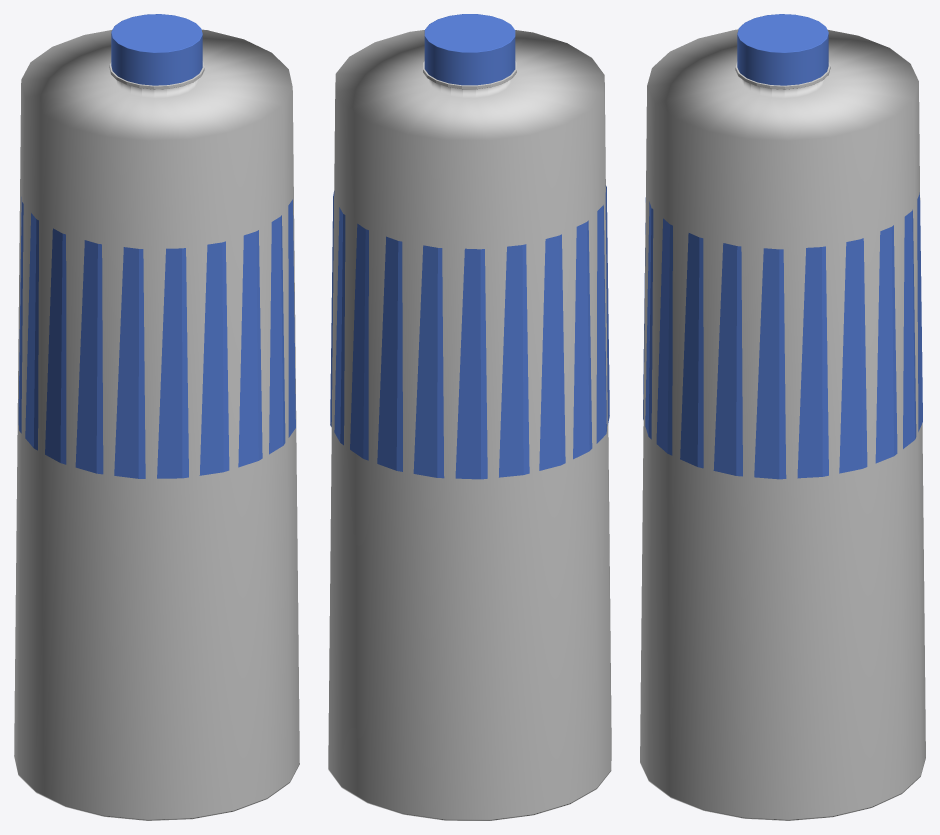
Rendered from Bottle_5.fbx.
3 renders of one model, left to right at view 1: azimuth 30°, elevation 25°; view 2: azimuth 150°, elevation 25°; view 3: azimuth 270°, elevation 25°, orthographic.
Parts seen in each view (by area): view 1: polySurface3, bottle_name, cap; view 2: polySurface3, bottle_name, cap; view 3: polySurface3, bottle_name, cap.
Part boxes in pixels (x1=…): polySurface3: x1=14, y1=29, x2=299, y2=820; bottle_name: x1=18, y1=197, x2=295, y2=478; cap: x1=111, y1=14, x2=202, y2=85; polySurface3: x1=328, y1=30, x2=611, y2=820; bottle_name: x1=330, y1=185, x2=609, y2=479; cap: x1=424, y1=14, x2=515, y2=85; polySurface3: x1=640, y1=29, x2=925, y2=820; bottle_name: x1=643, y1=192, x2=922, y2=479; cap: x1=737, y1=14, x2=828, y2=85.
Size of the model in its own units: 0.3535 by 0.9918 by 0.3535.
